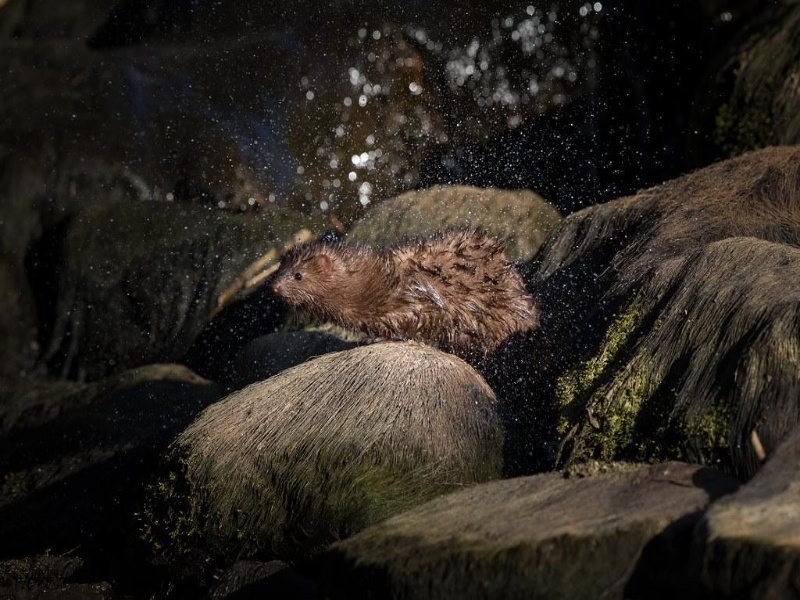minkish: (273, 234, 543, 357)
